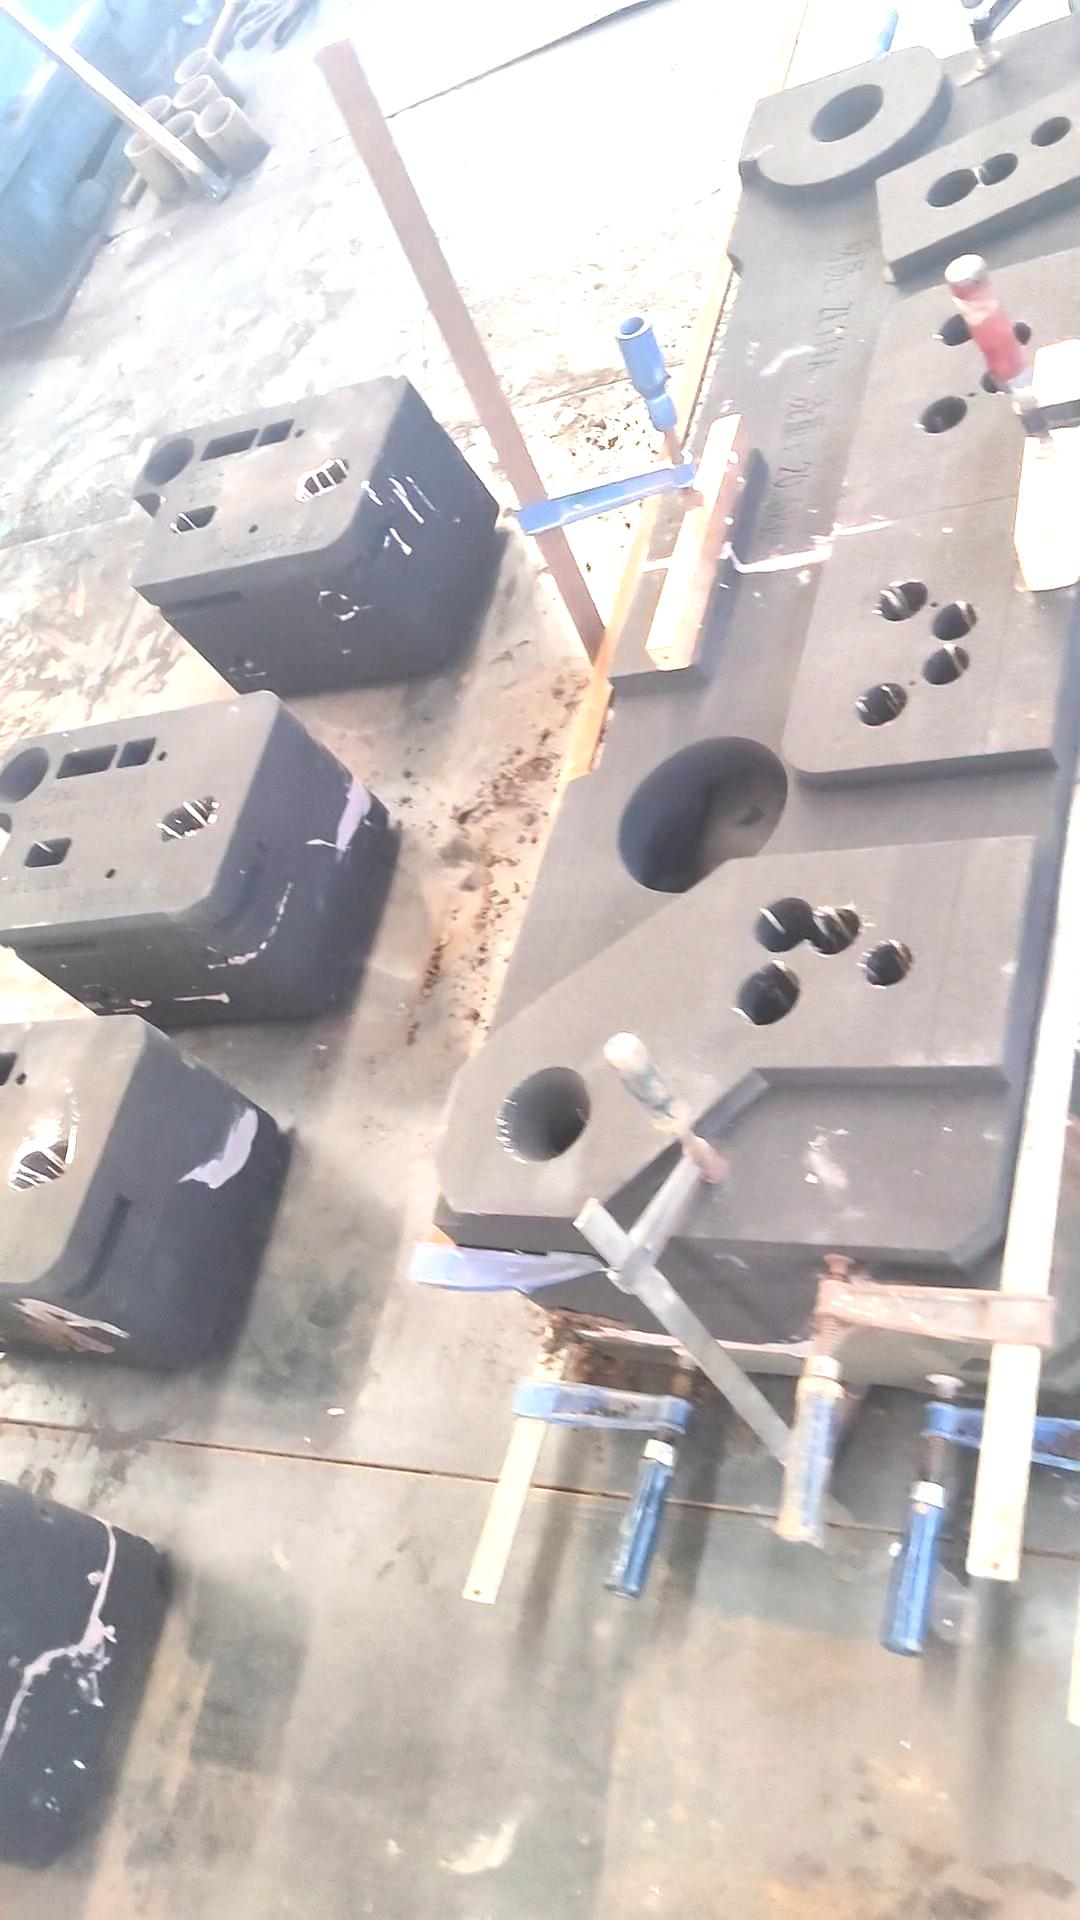pouring hole: (498, 1064, 593, 1164), (808, 83, 884, 142), (1, 746, 47, 804), (145, 436, 196, 485), (196, 98, 229, 133), (175, 50, 208, 80), (175, 76, 208, 105), (123, 128, 157, 154), (164, 112, 193, 137), (138, 96, 167, 119)
